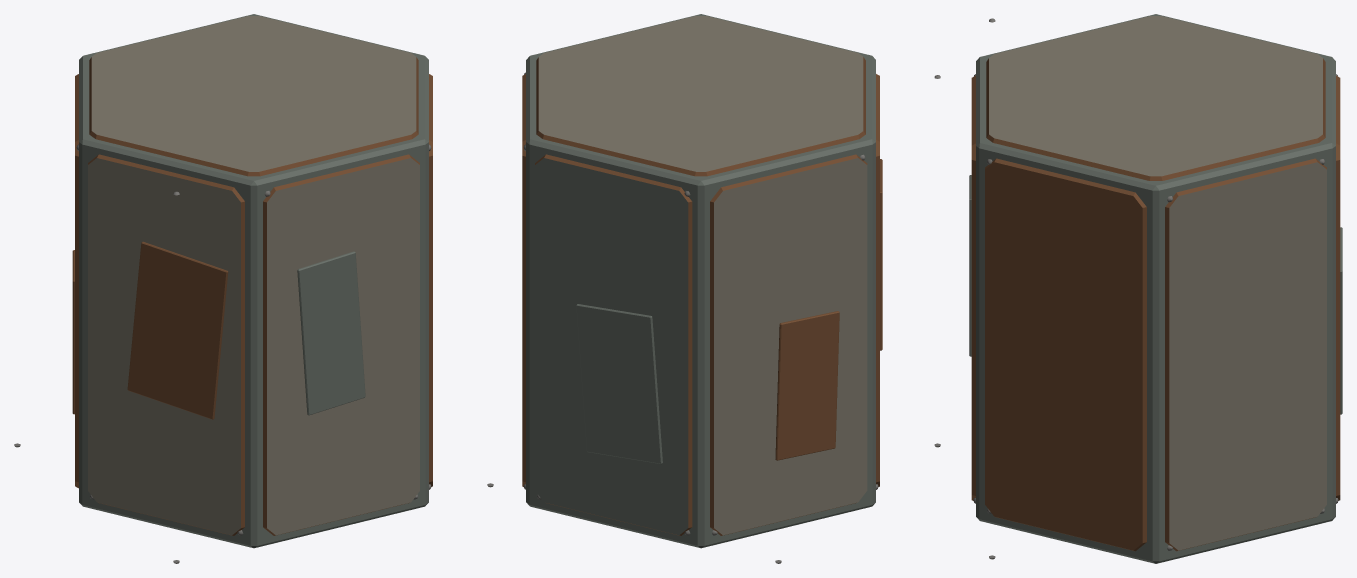
The model's file is R4B_HexColumn.fbx.
3 views of the same model, side by side, from view 1: azimuth 30°, elevation 25°; view 2: azimuth 150°, elevation 25°; view 3: azimuth 270°, elevation 25° (orthographic). The views are drawn at different scales.
Visible parts, largest first — view 1: R4B_HexColumn; view 2: R4B_HexColumn; view 3: R4B_HexColumn.
Part boxes in pixels (box(x1,y1,x2,y2)): R4B_HexColumn: box(14, 14, 493, 563); R4B_HexColumn: box(522, 14, 940, 563); R4B_HexColumn: box(969, 14, 1342, 563).
Size of the model in its own units: 0.5035 by 0.52 by 0.4563.
